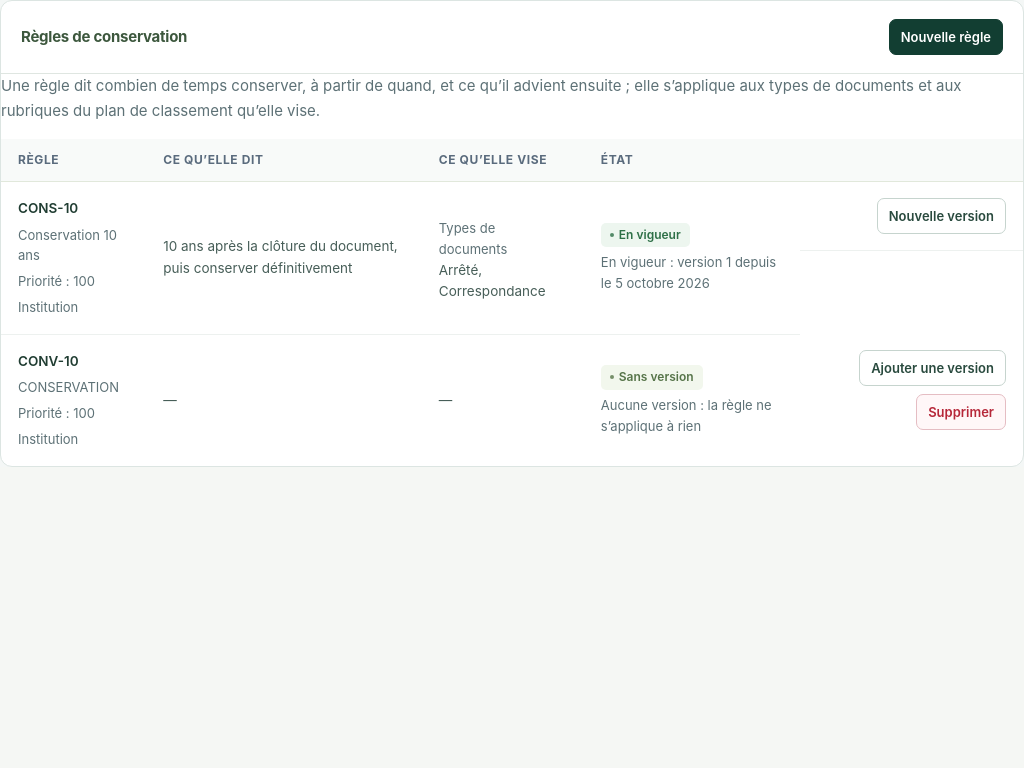
Scenario: donner une nouvelle version à une règle existante ne recrée pas la règle et remplace la version en vigueur
Step 1. Click the button "Nouvelle version" → (941, 216), box [877, 198, 1006, 234]
(page scrolled)
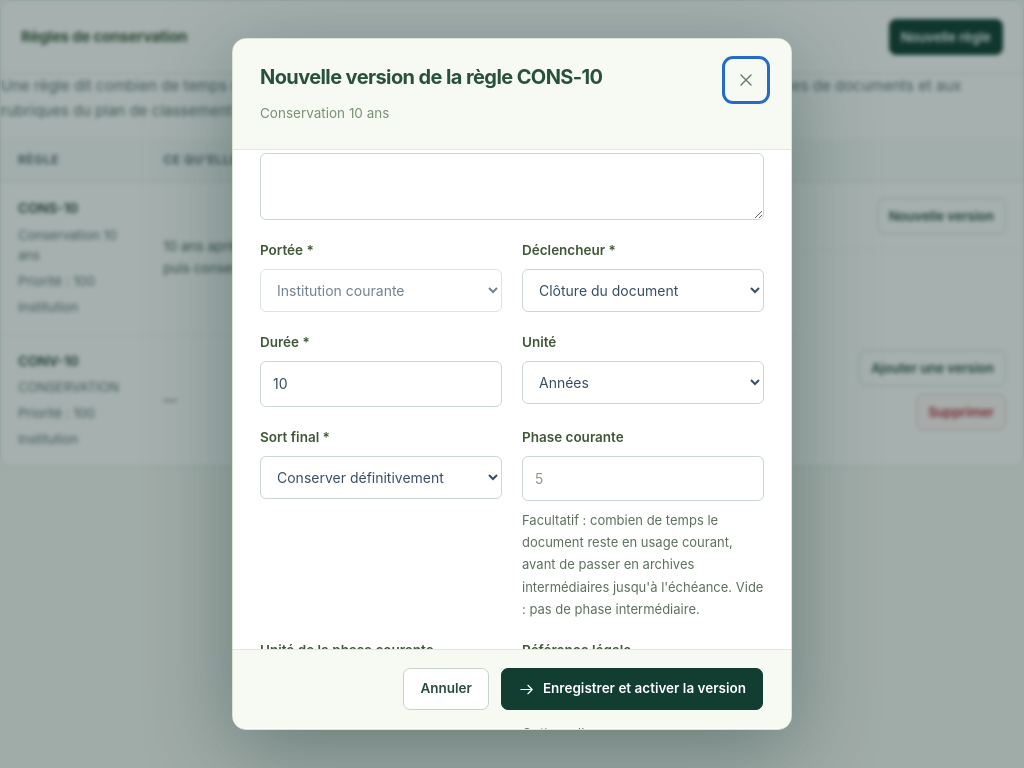
Expected: the heading "Nouvelle version de la règle CONS-10" is shown, [260, 62, 602, 93]
Expected: the number field labelled "Durée *" holds "10"
Step 2. Replace the text in the number field labelled "Durée *" with "15" → (381, 384), box [260, 361, 502, 407]
(page scrolled)
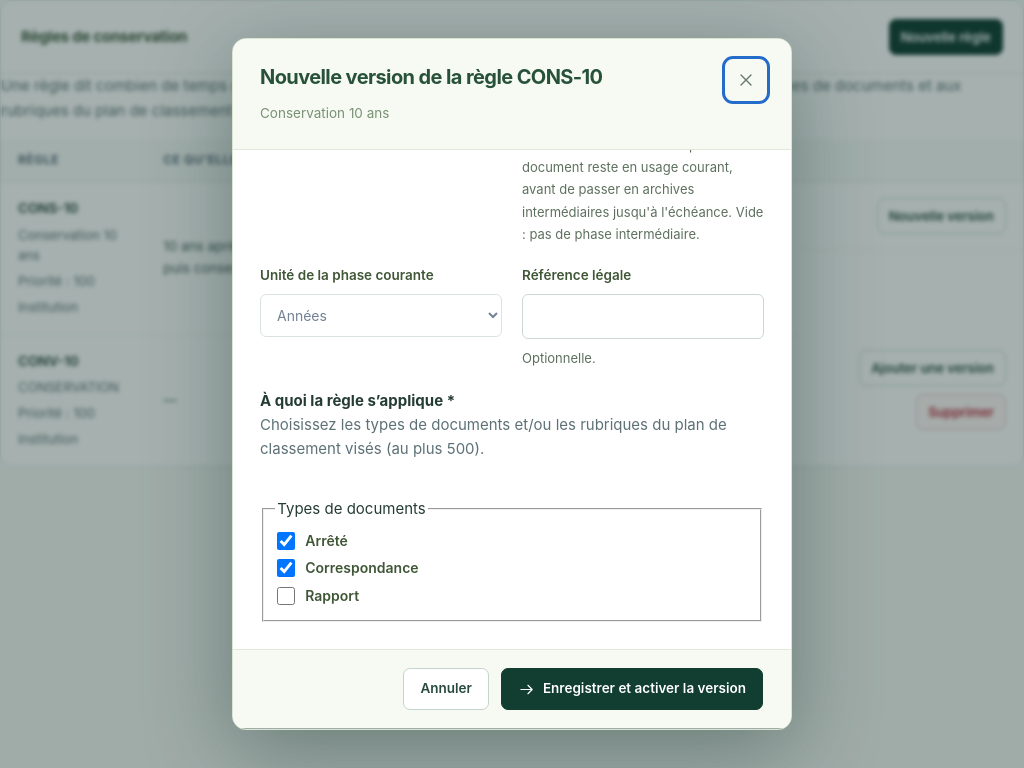
Step 3. Click the checkbox labelled "Rapport" → (286, 596), box [277, 587, 295, 605]
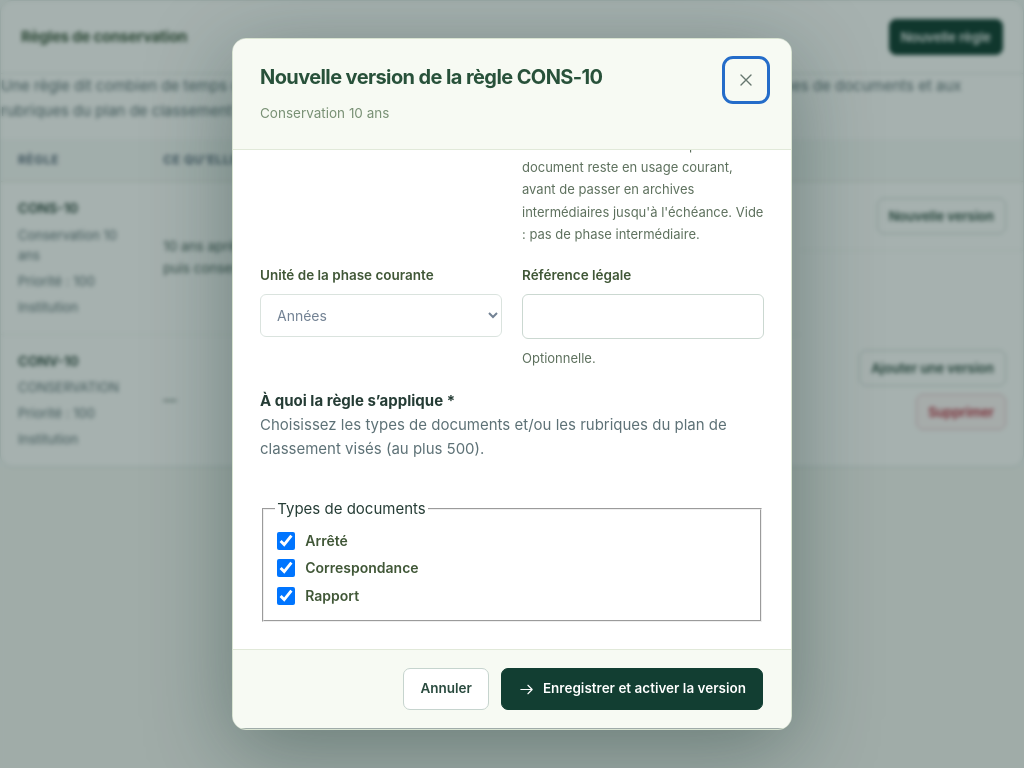
Step 4. Click the button "Enregistrer et activer la version" → (632, 689), box [501, 668, 763, 710]
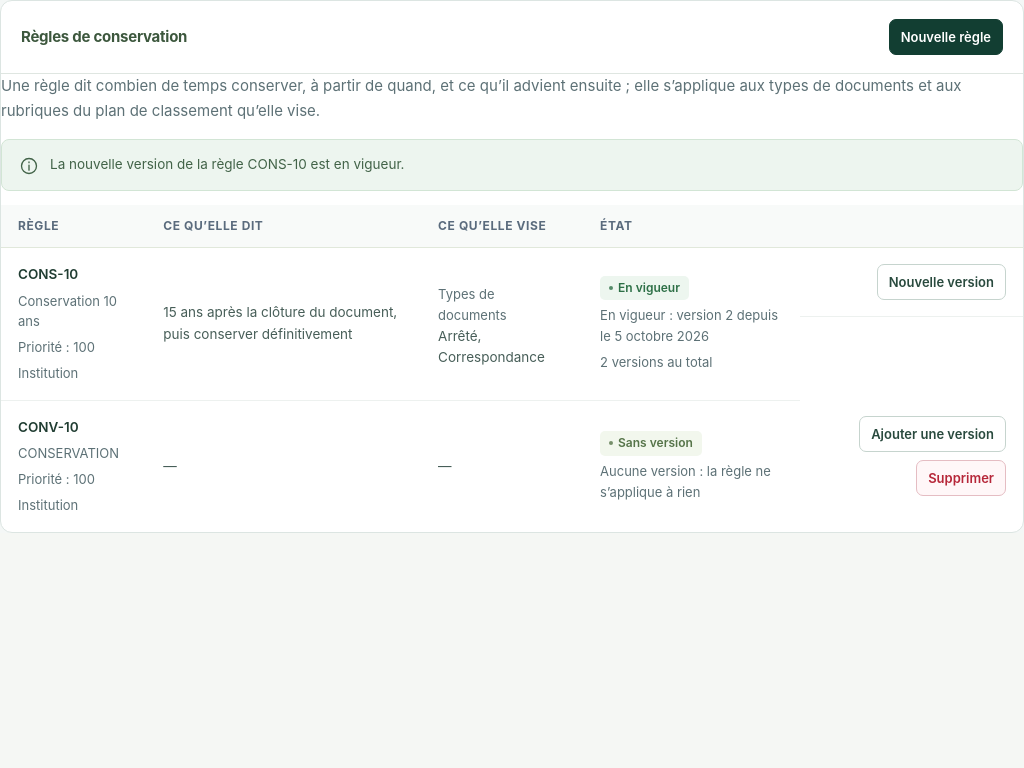
Expected: the text "La nouvelle version de la règle CONS-10 est en vigueur." is shown, [50, 154, 404, 175]
Expected: the text "2 versions au total" is shown, [600, 354, 713, 370]
